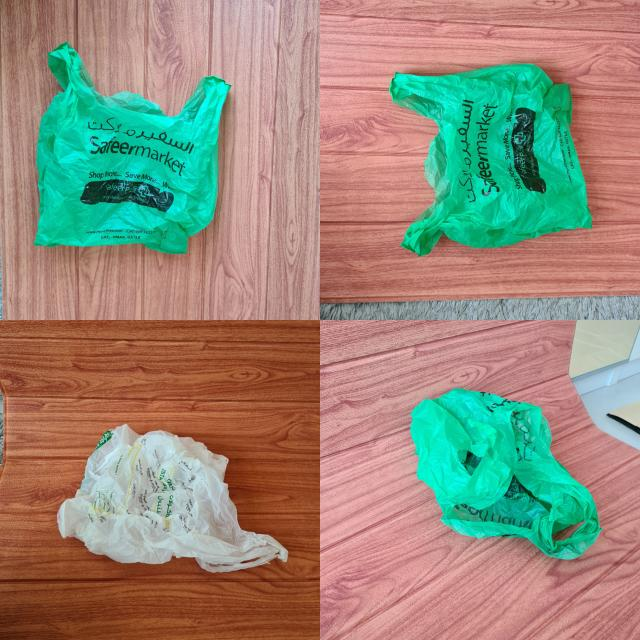Single-layer Plastic: (35, 42, 230, 254), (390, 64, 591, 255), (58, 424, 288, 572), (411, 389, 600, 559)
